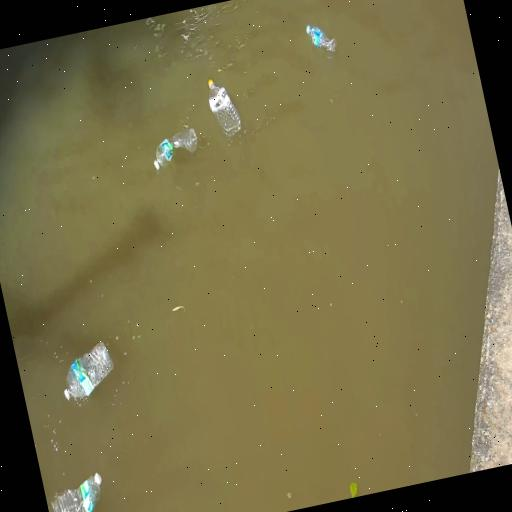plastic: (64, 342, 114, 401), (52, 473, 102, 511), (209, 80, 241, 137), (154, 129, 197, 169), (306, 26, 336, 52)
